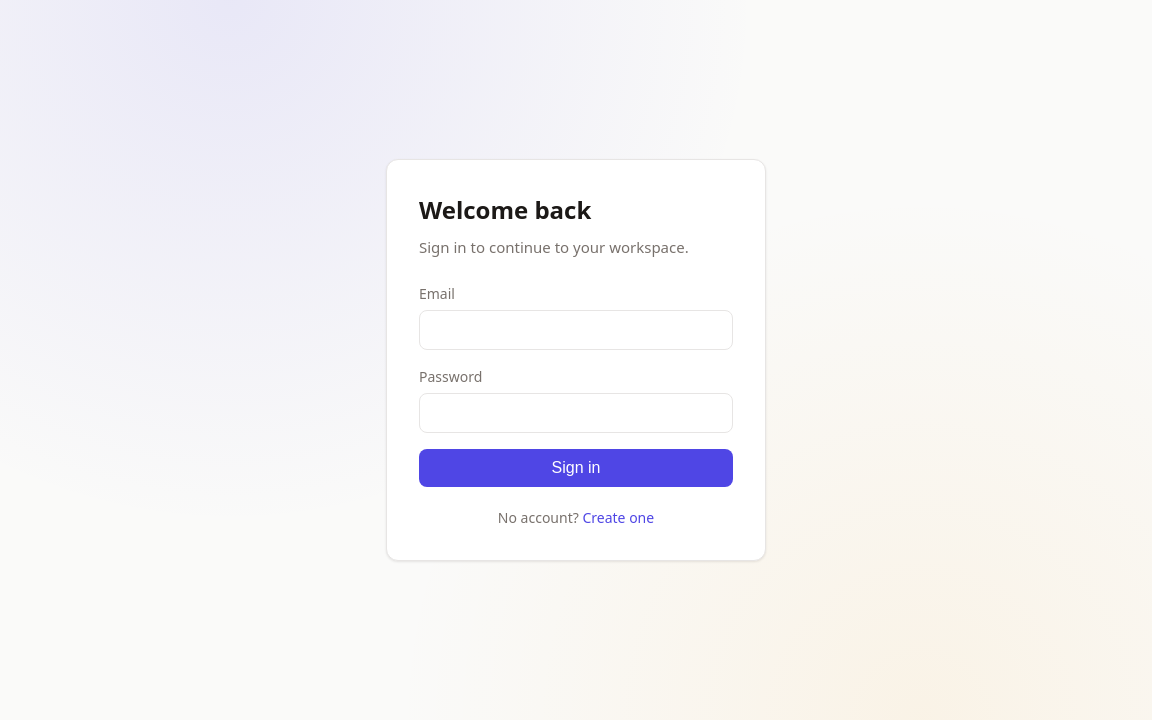
Scenario: LoginPage › disables the button and shows loading text while submitting
In the field labelled "Email": (576, 330) [419,310,733,350], type "user@example.com"
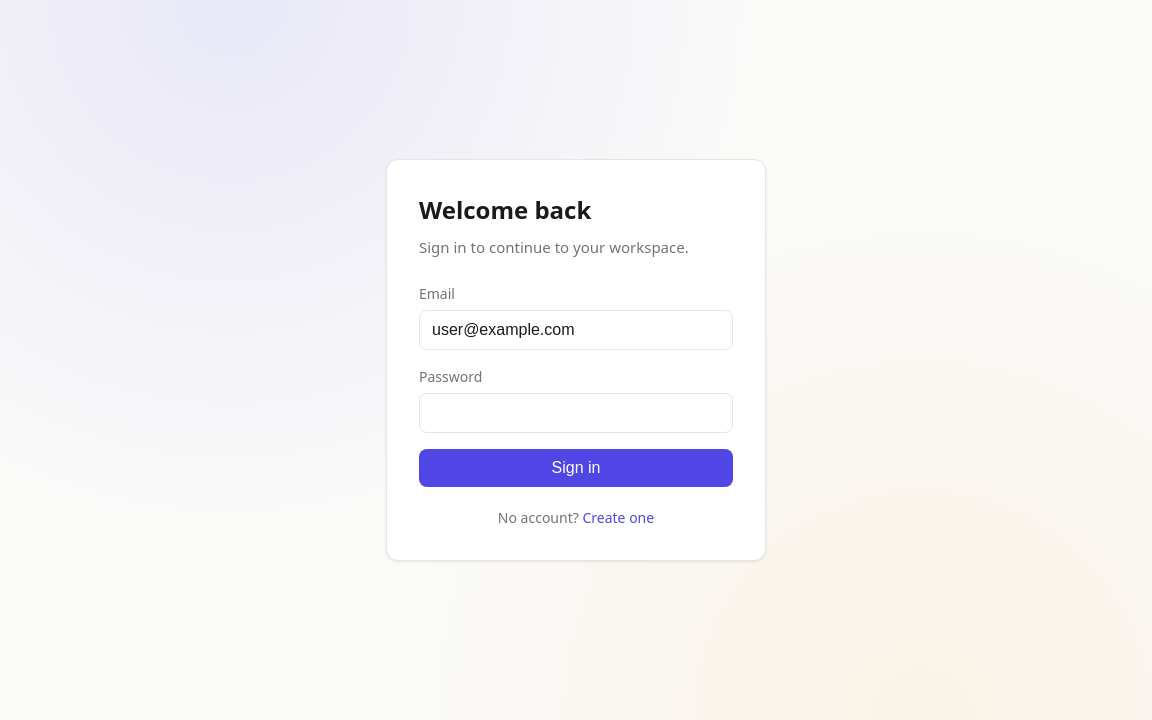
In the password field labelled "Password": (576, 413) [419,393,733,433], type "password123"
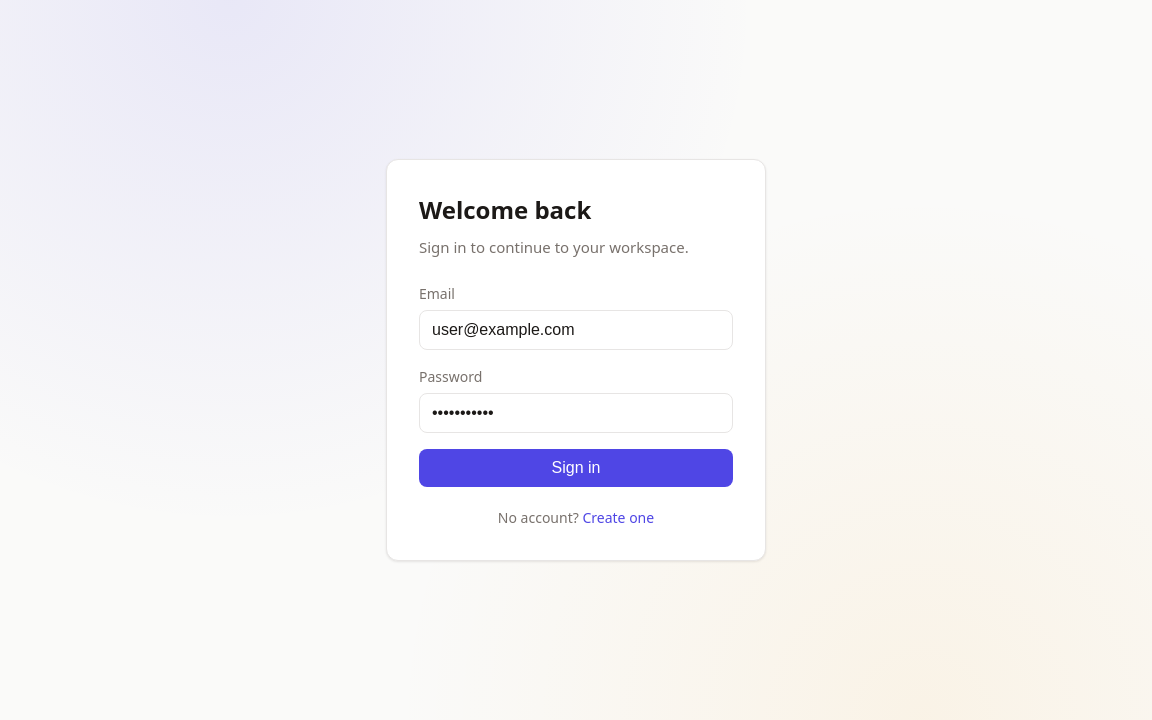
Click the button "Sign in": (576, 468) [419,449,733,487]
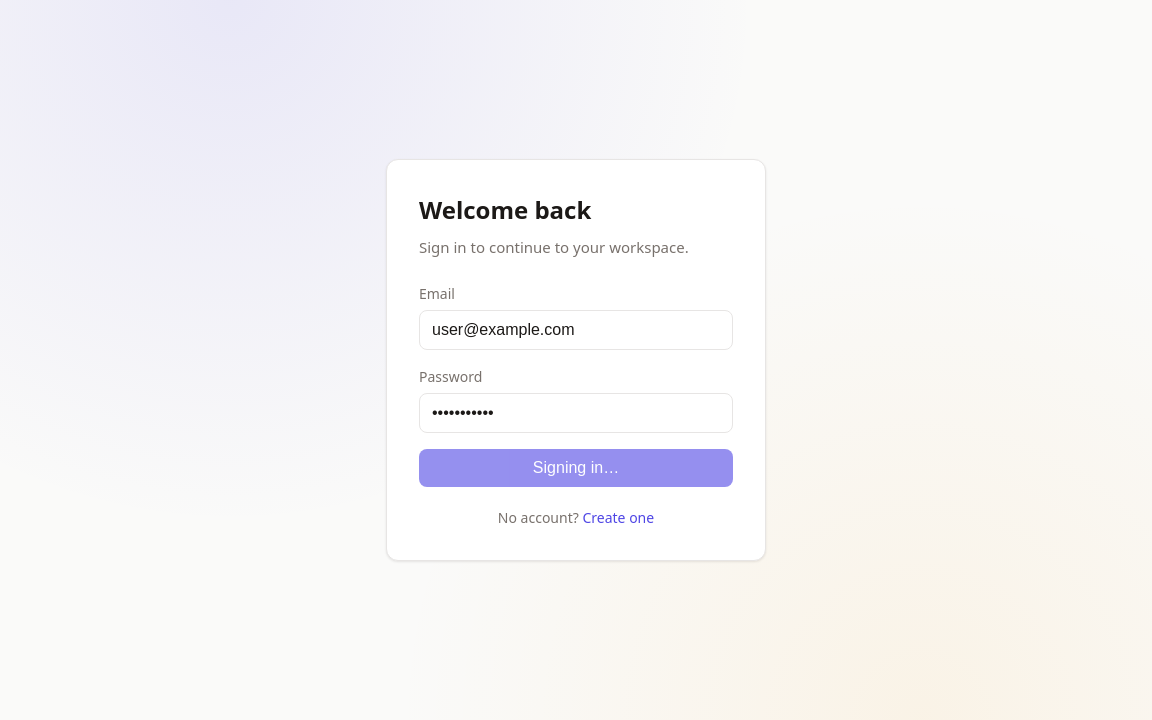
Expected: the button "Signing in…" is disabled, [419,449,733,487]
